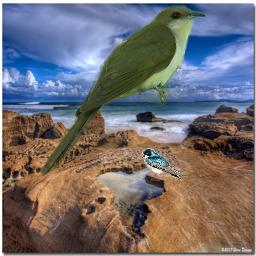Cuckoo: (40, 5, 207, 179)
Swallow: (140, 148, 188, 181)
